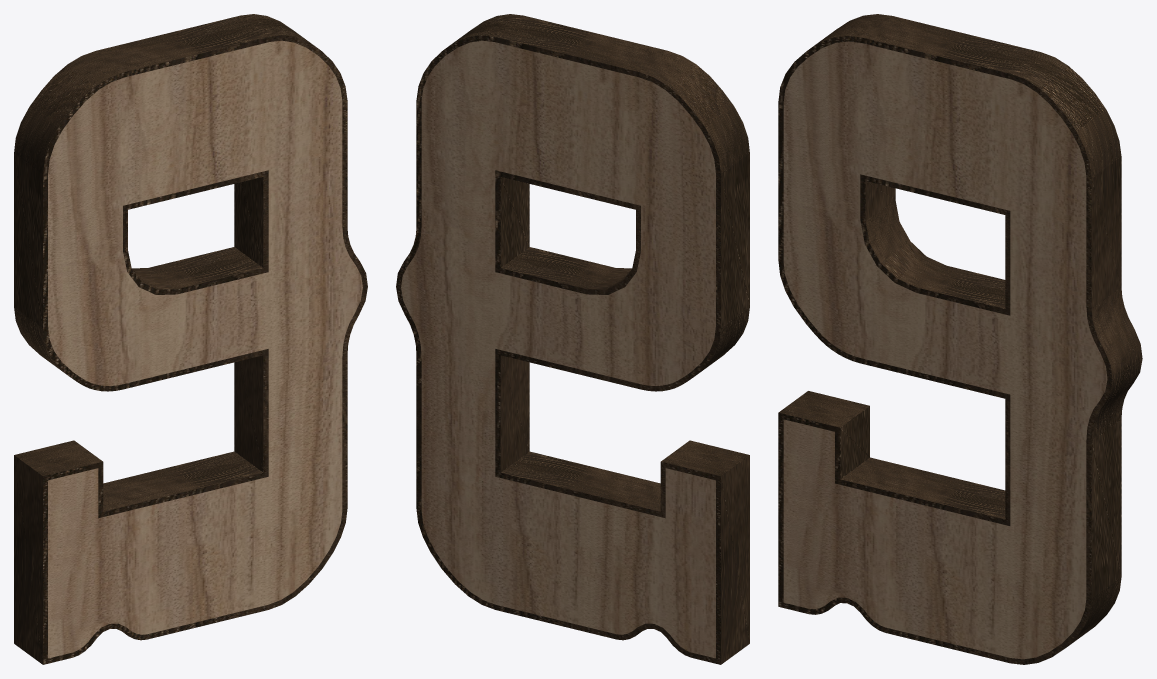
3 views of the same model, side by side, from view 1: azimuth 30°, elevation 25°; view 2: azimuth 150°, elevation 25°; view 3: azimuth 330°, elevation 25° (orthographic). The views are drawn at different scales.
Parts seen in each view (by area): view 1: 9, 9_outline; view 2: 9, 9_outline; view 3: 9, 9_outline.
Boxes of the visible parts, <box> form: 9: <box>48,40,362,658</box>; 9_outline: <box>14,14,367,664</box>; 9: <box>401,40,715,658</box>; 9_outline: <box>396,14,749,664</box>; 9: <box>783,41,1107,659</box>; 9_outline: <box>778,14,1142,664</box>.
Bounding box in the file's own units: 64.56 × 109 × 10.
2 materials, 2 textured.
